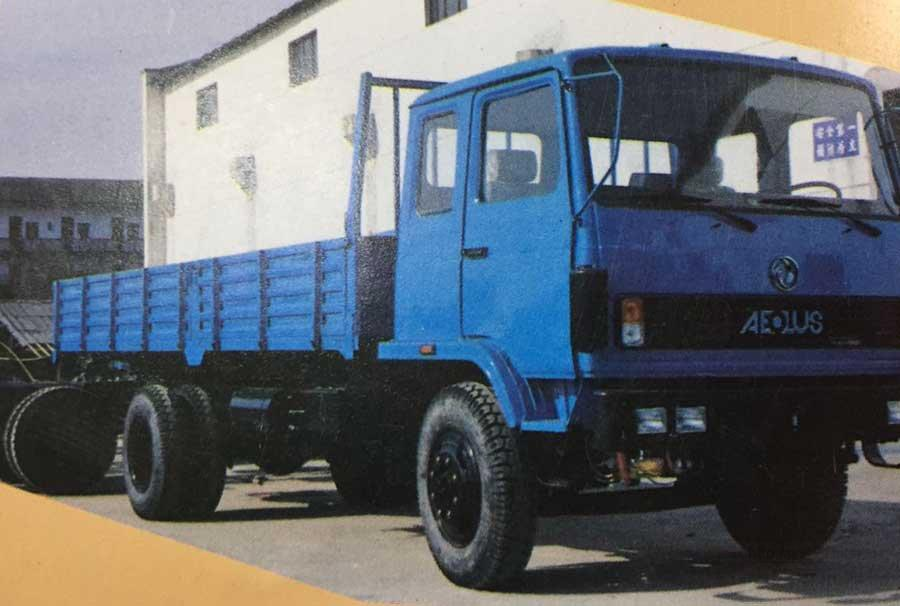truck: (47, 26, 900, 606)
